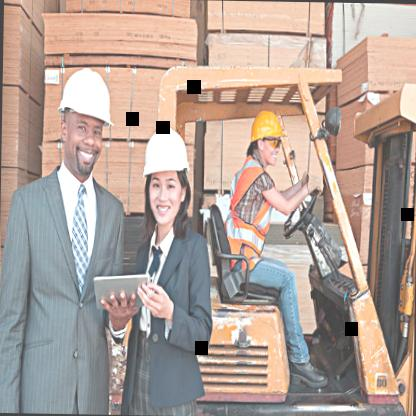helmet: (49, 53, 115, 178), (132, 123, 192, 230), (243, 106, 288, 172)
